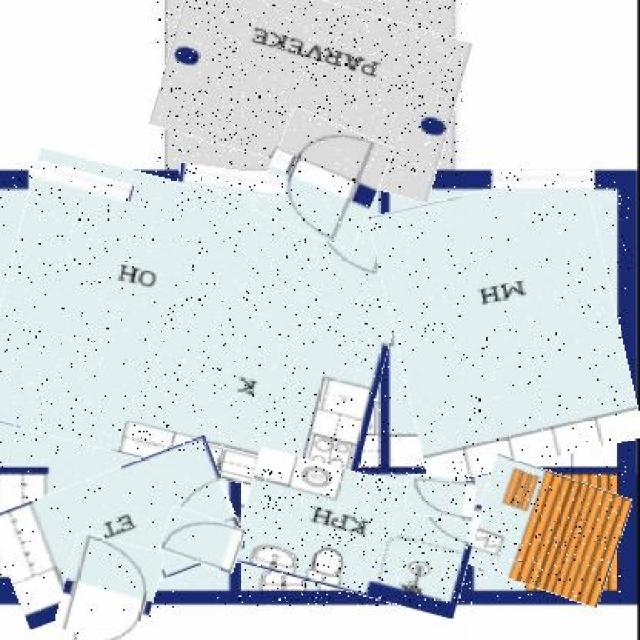door: (262, 117, 384, 243), (58, 537, 158, 640), (162, 511, 245, 569), (406, 476, 476, 518)
window: (29, 167, 134, 196), (178, 168, 284, 195), (486, 168, 600, 189)
zone: (0, 169, 400, 488), (382, 178, 629, 476), (157, 0, 463, 183), (0, 453, 238, 609), (235, 462, 477, 606), (468, 463, 626, 599)
